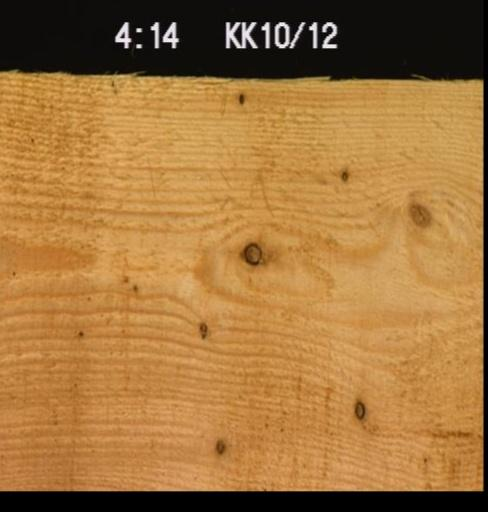dry_knot: (350, 396, 366, 420)
small_knot: (194, 316, 211, 343), (211, 433, 226, 456), (335, 166, 350, 183), (234, 88, 246, 106), (73, 324, 86, 340), (128, 279, 141, 294)
sound_knot: (405, 200, 432, 227)
